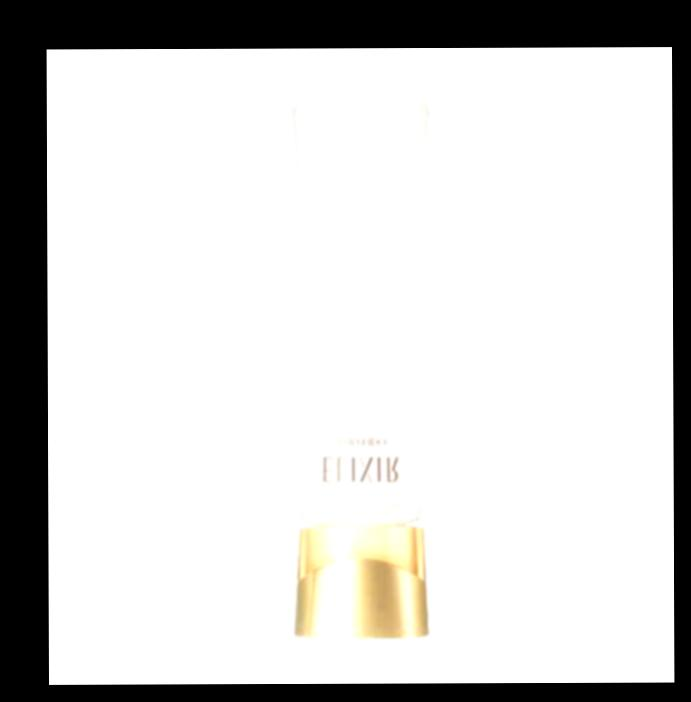cosmetic: (293, 96, 433, 640)
